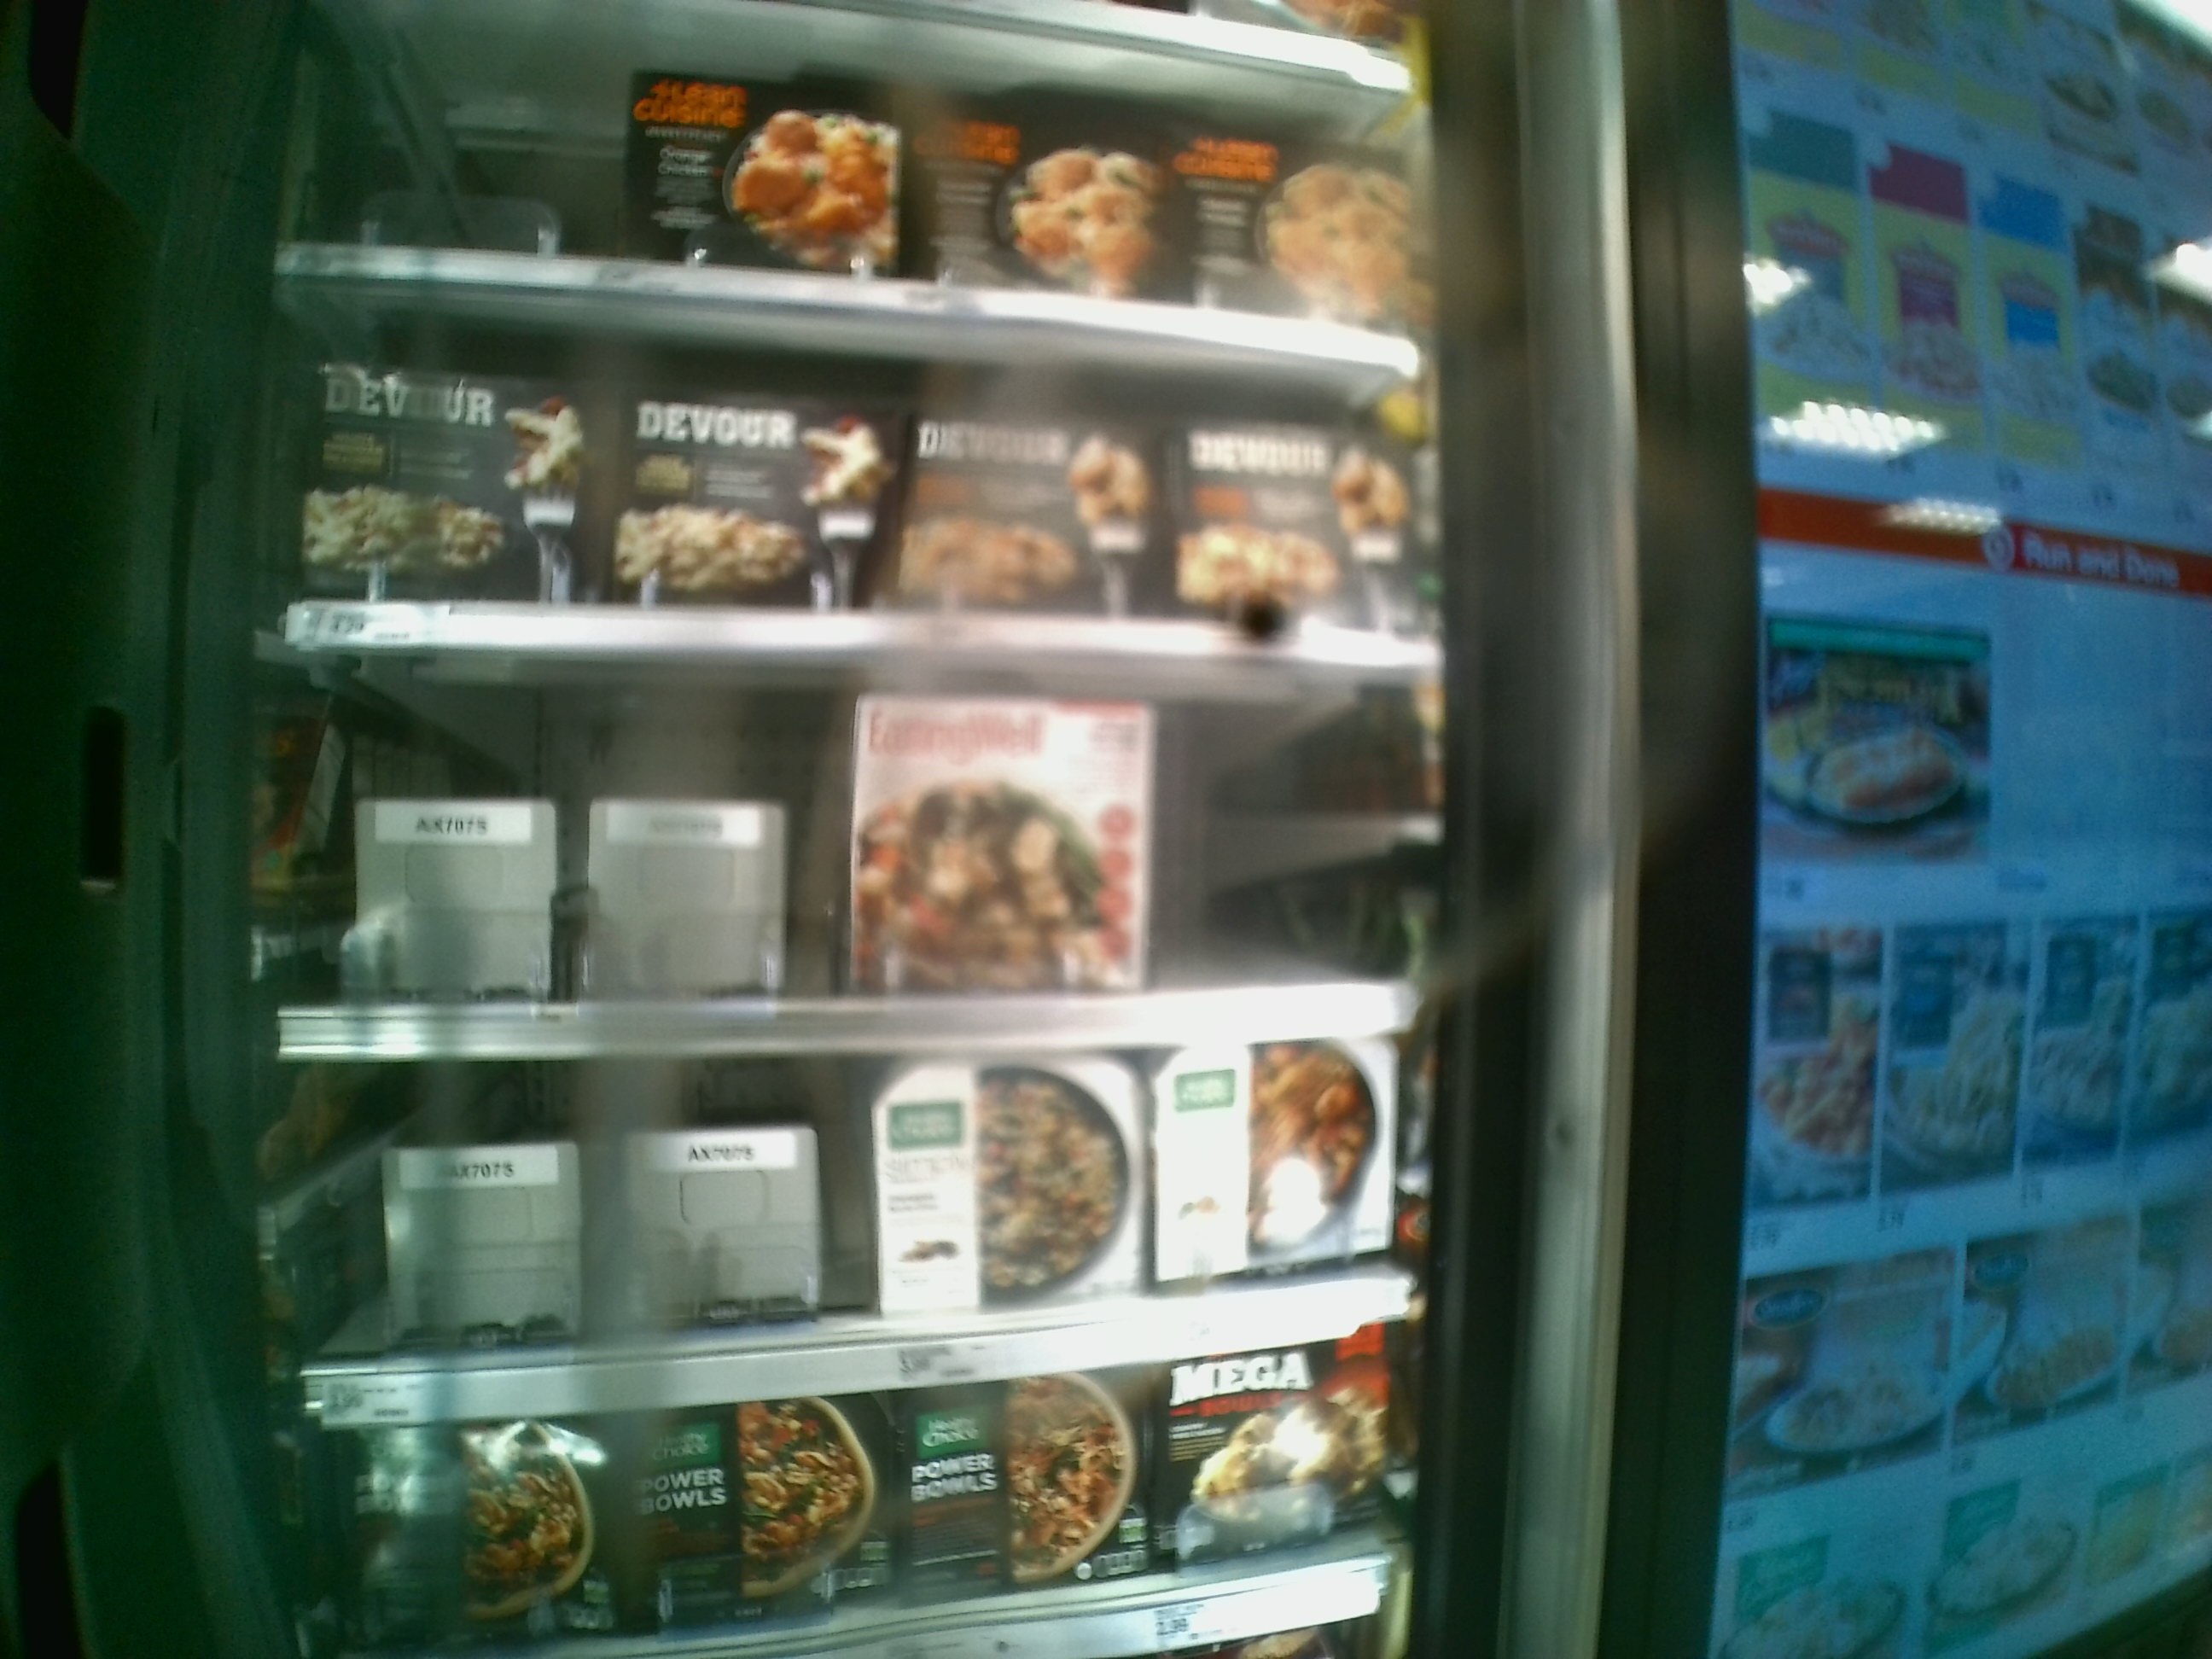shelf: (270, 641, 1423, 1053), (273, 1030, 1428, 1429), (279, 272, 1440, 667)
